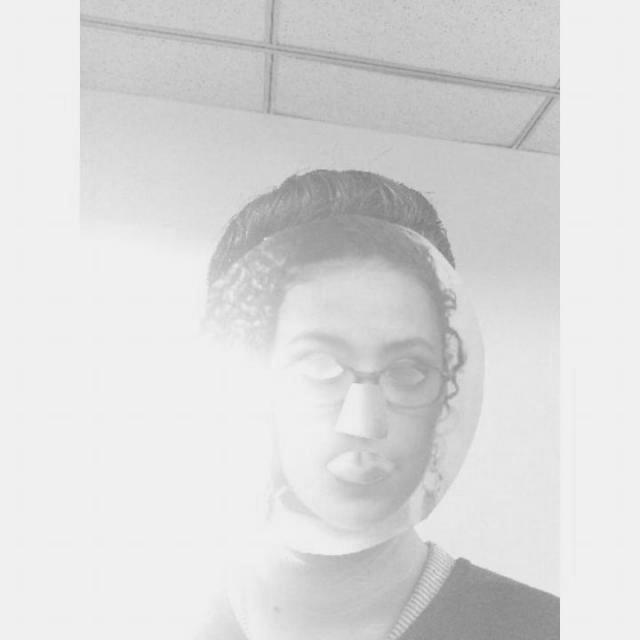fake: (186, 214, 488, 560)
